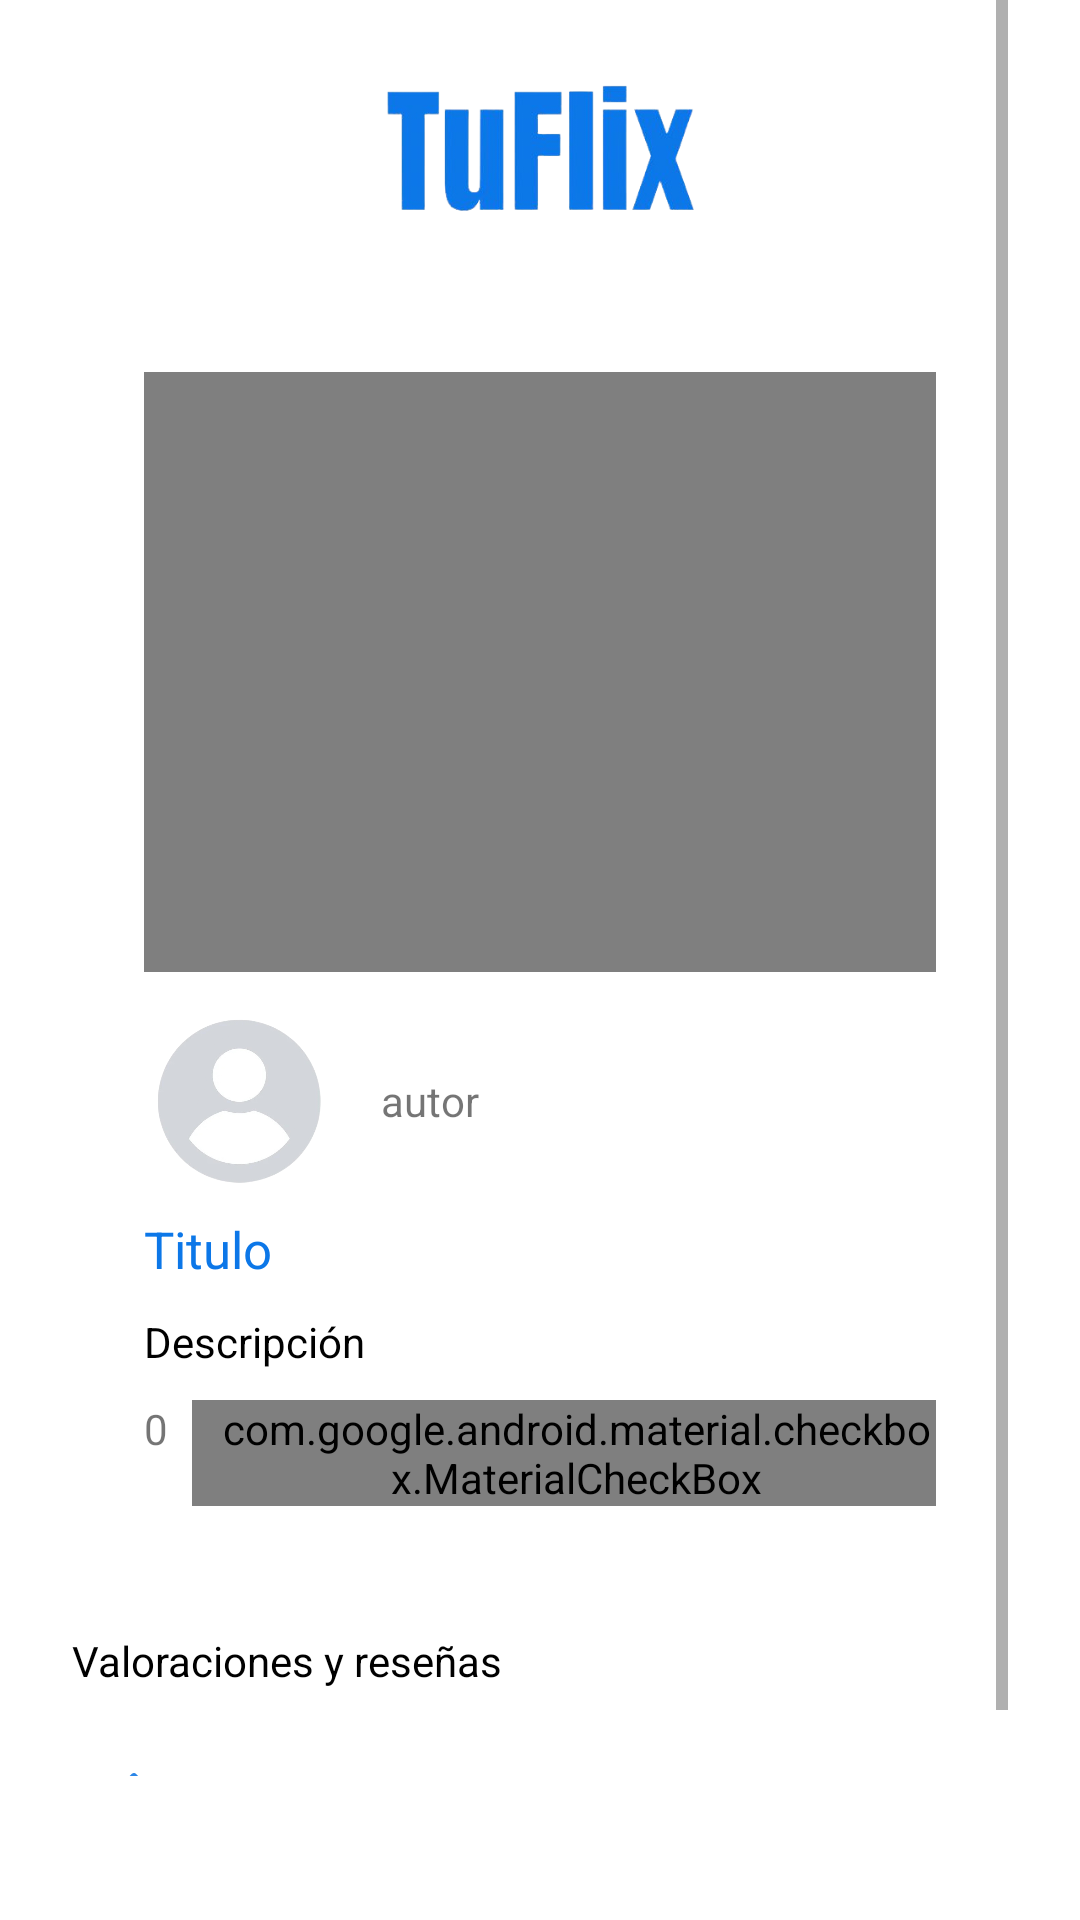

Screen size 1080*1920. Icon name, then its center in pixels as (x=x, y=y):
fotousuario: (x=239, y=1101)
